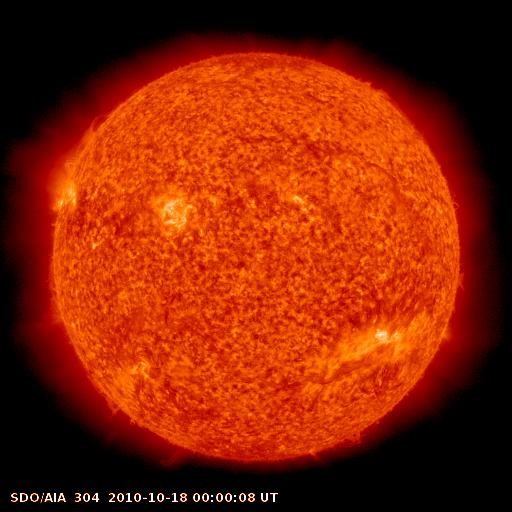prominence: (25, 261, 74, 335), (300, 422, 372, 466), (65, 108, 119, 162), (85, 372, 131, 429), (356, 70, 409, 117), (151, 431, 202, 475), (444, 257, 473, 304), (439, 182, 470, 221)
